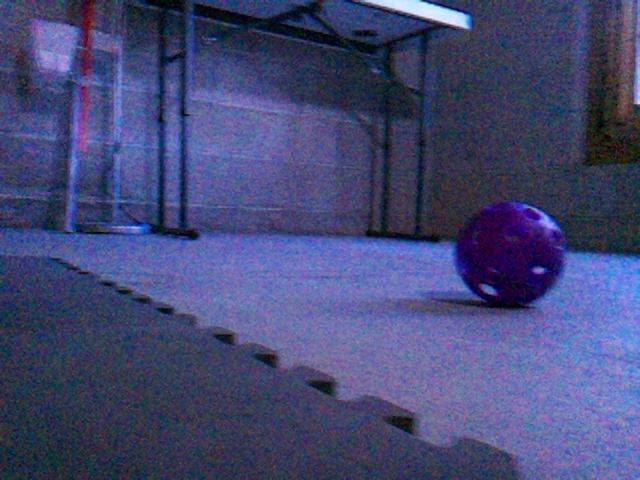Purple: (454, 200, 566, 306)
